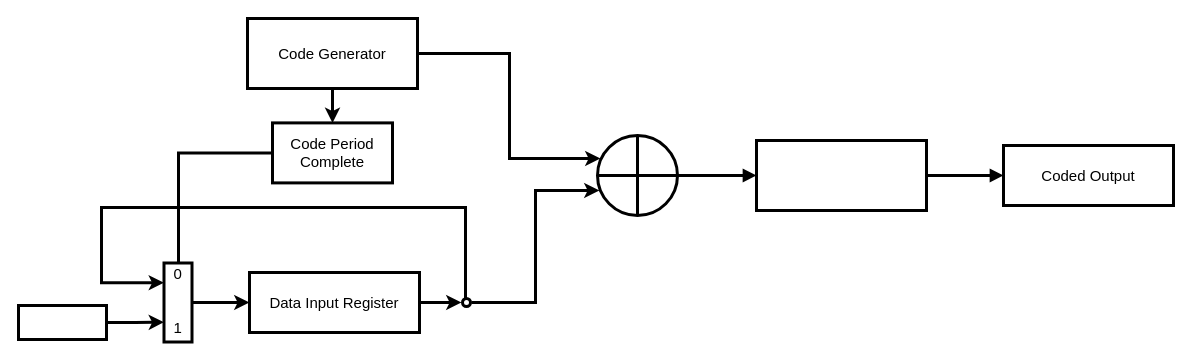
Some shapes in this 1192 by 361 pixel diagram are drawn without their labels. The shapes that lost their labels are listed below. From the top down, each one's box as (x1, y1, x2, y2) in pixels, then its label:
(754, 138, 928, 212): Encode For DAC
(16, 304, 108, 340): Data Input
